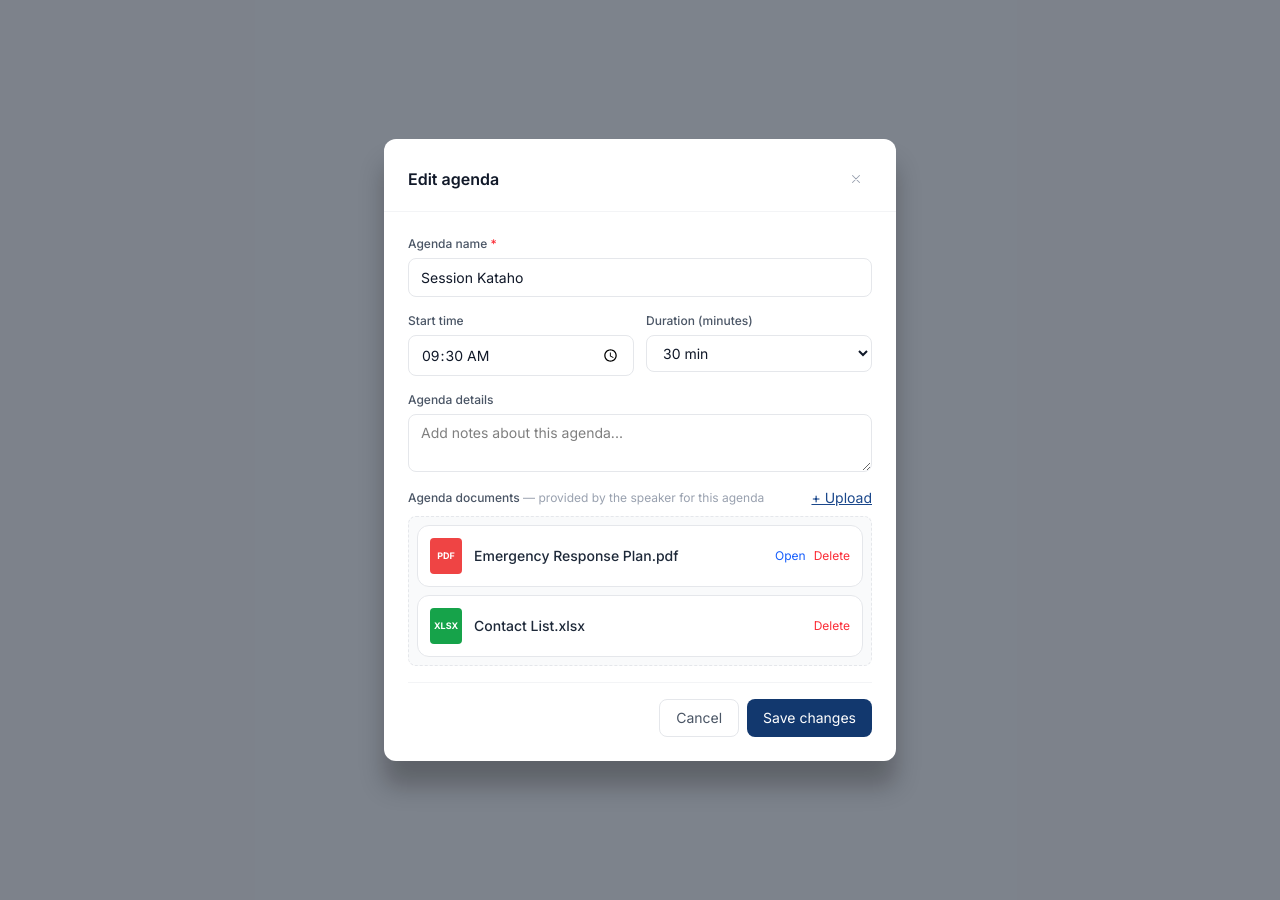
Test: the documents on an agenda item that exists › takes one away for good when asked
Expected: the text "Contact List.xlsx" is shown, [474, 617, 585, 634]
Click the button "Delete" in the row of "Contact List.xlsx" at (832,626), box [814, 618, 850, 634]
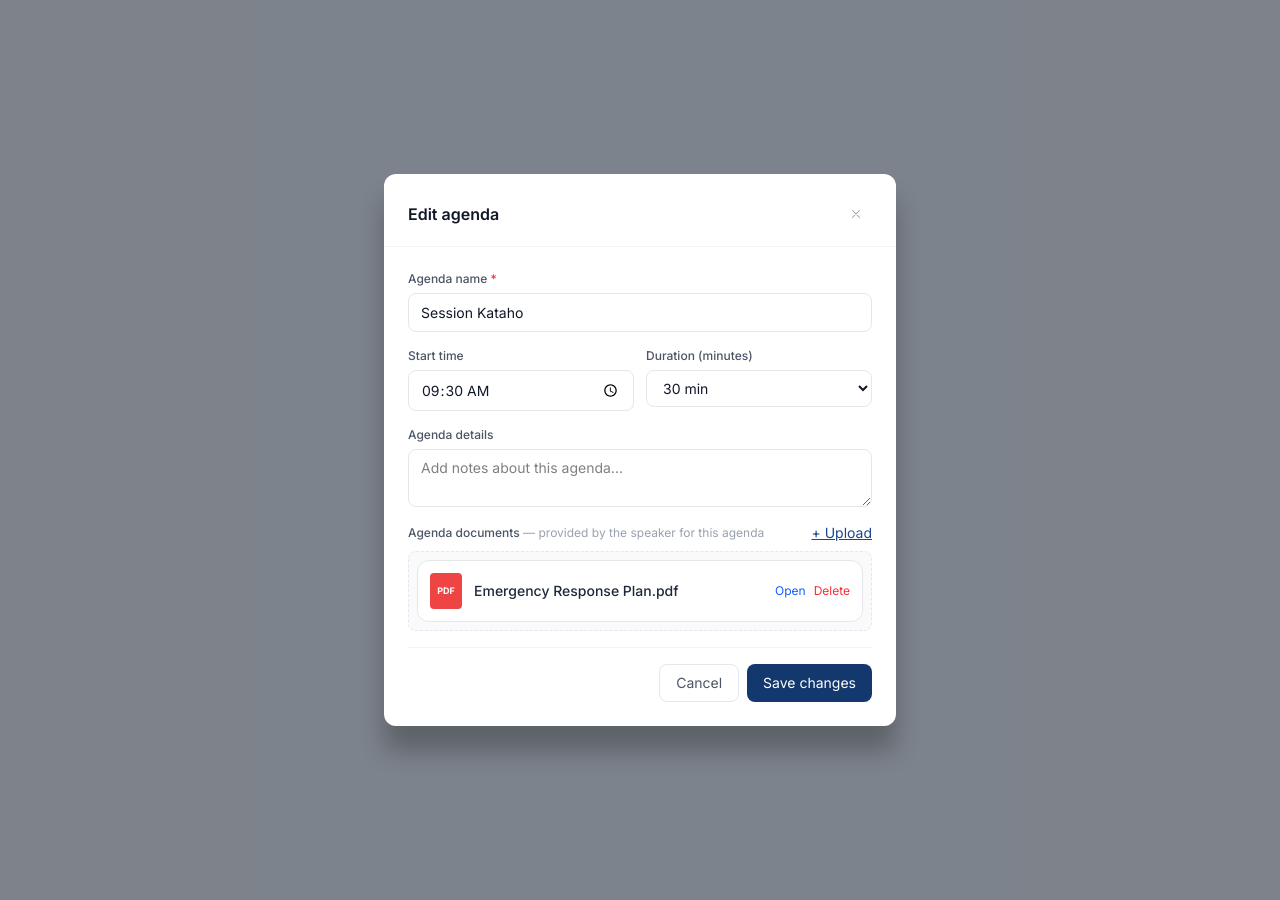
Now the text "Contact List.xlsx" is gone
